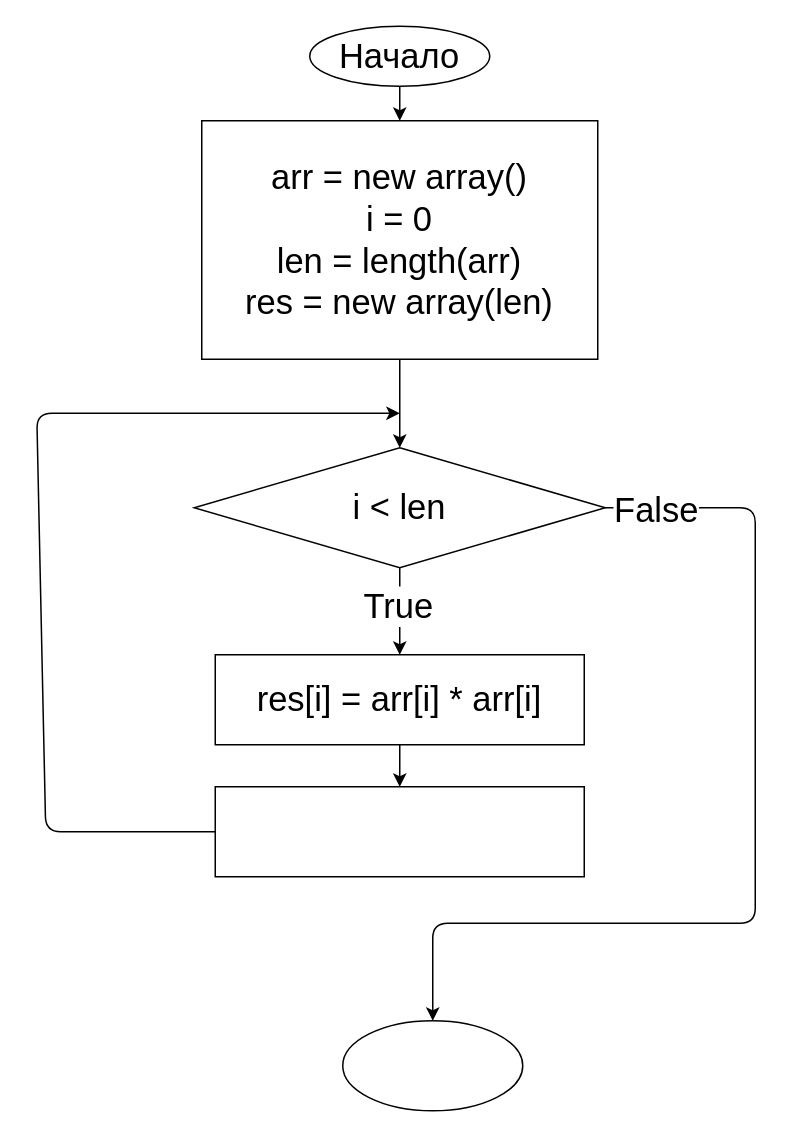
Some shapes in this 794 by 1137 pixel diagram are drawn without their labels. The shapes that lost their labels are listed below. From the top down, each one's centre as x and y in pixels, then its label:
(399,831): i += 1
(432,1065): Конец
